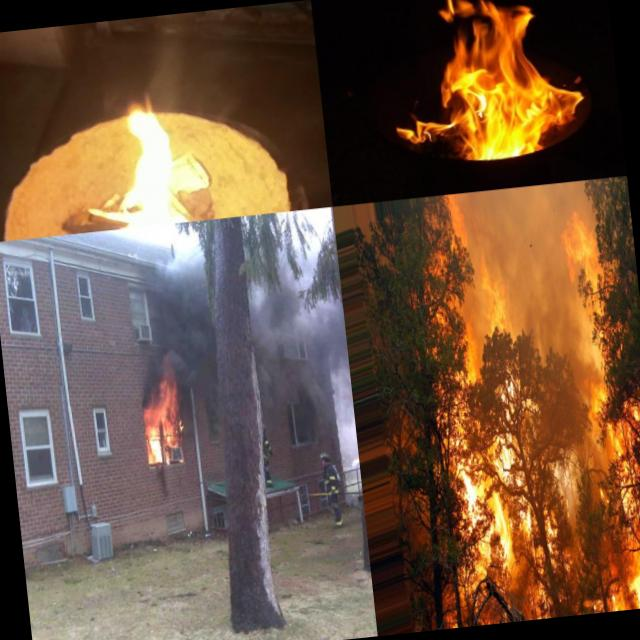fire: (402, 175, 640, 628), (384, 0, 588, 169), (110, 95, 224, 228), (133, 374, 194, 466)
smoke: (247, 274, 354, 424), (142, 260, 218, 384)
